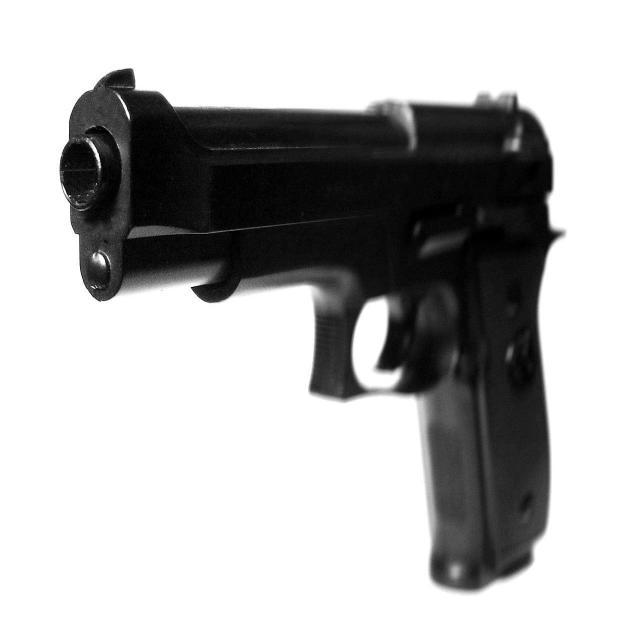Gun: (60, 69, 560, 588)
